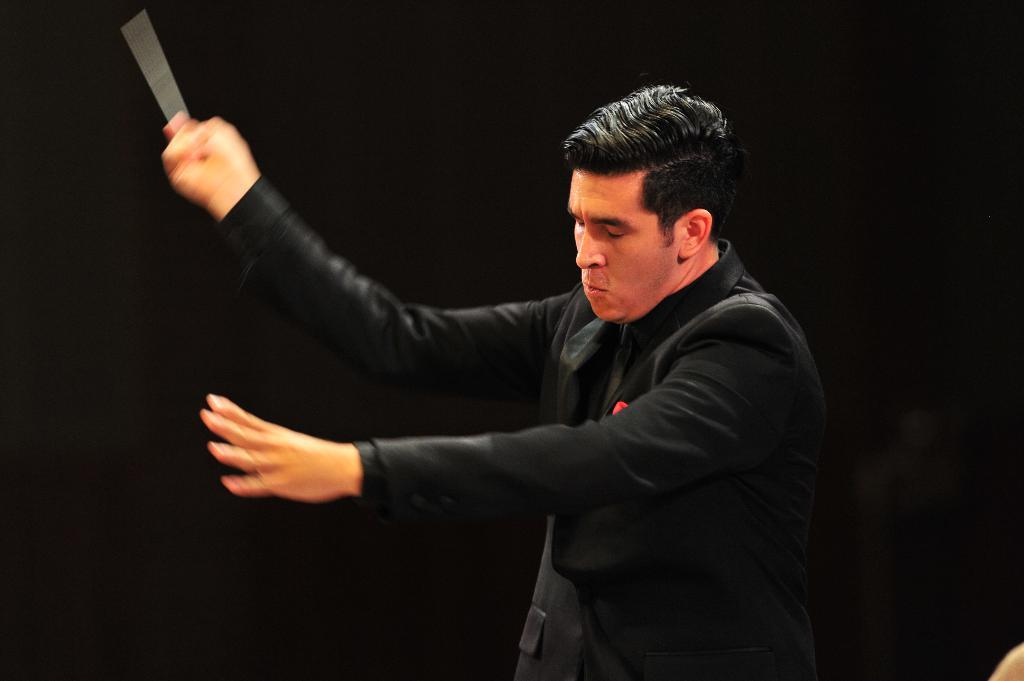Pessoa: (163, 86, 824, 680)
